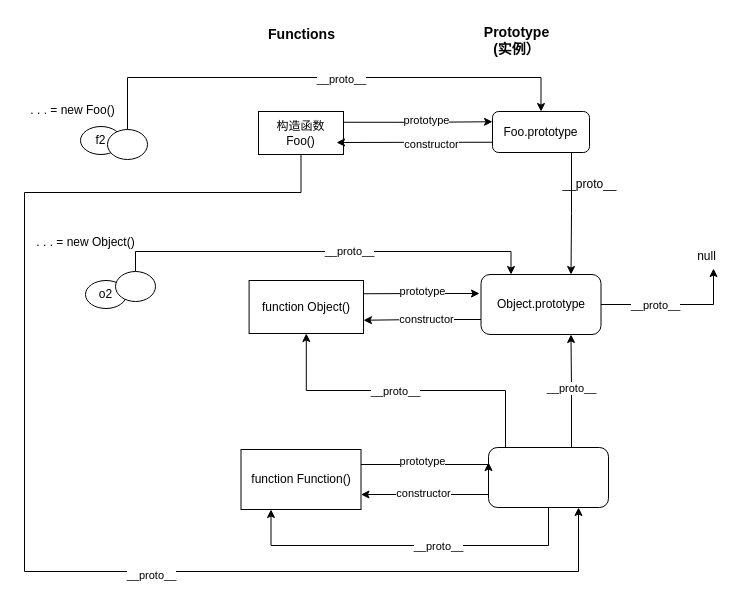
Image size: 742x598. Some labels were removed from this diagram. The shapes that lost their labels are listed below. From the top down, each one's centre as x and y in pixels, then its label:
At point (127, 144): "f1".
At point (135, 286): "o1".
At point (548, 477): "Function.prototype".
